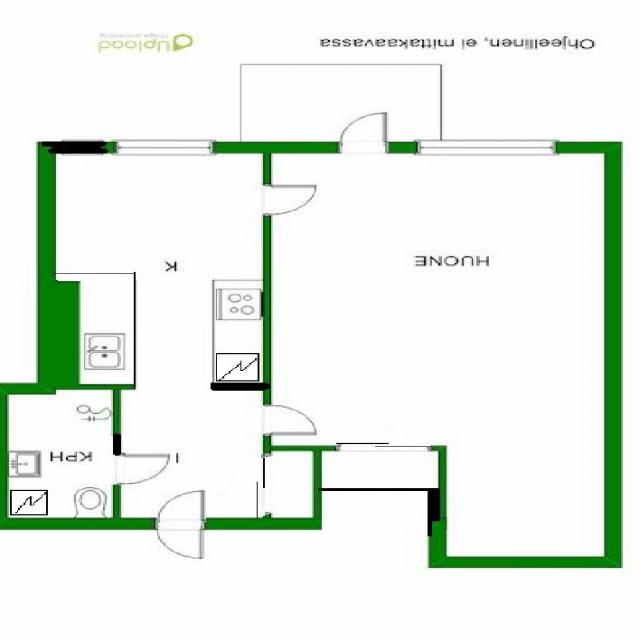door: (338, 110, 385, 154), (156, 489, 202, 531), (156, 520, 202, 560), (263, 405, 316, 434), (114, 456, 166, 484), (263, 185, 315, 213)
